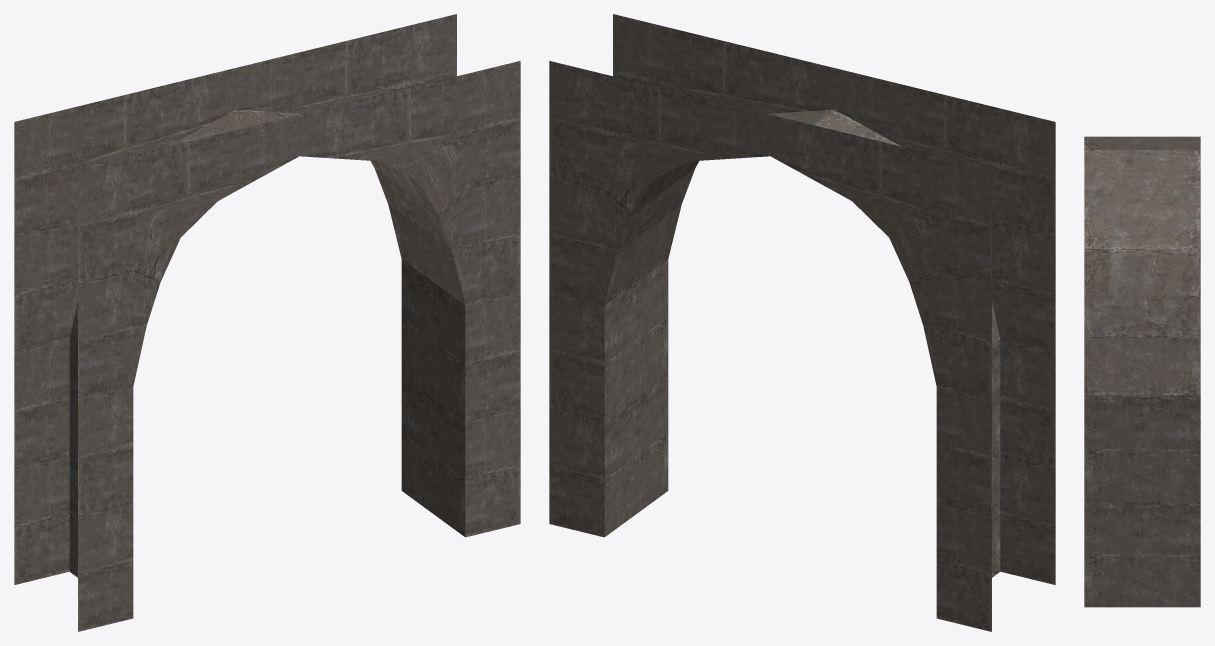
Rendered from WallEntrance.fbx.
The picture shows the model from 3 angles, left to right: view 1: azimuth 30°, elevation 25°; view 2: azimuth 150°, elevation 25°; view 3: azimuth 270°, elevation 25°; orthographic projection. The views are drawn at different scales.
Visible parts, largest first — view 1: Trim_wall_Entrance_8x8x2; view 2: Trim_wall_Entrance_8x8x2; view 3: Trim_wall_Entrance_8x8x2.
Boxes of the visible parts, box(x1,y1,x2,y2) form: Trim_wall_Entrance_8x8x2: box(14, 14, 520, 631); Trim_wall_Entrance_8x8x2: box(549, 14, 1055, 631); Trim_wall_Entrance_8x8x2: box(1084, 136, 1200, 607).
Bounding box in the file's own units: 800 × 800 × 200.
